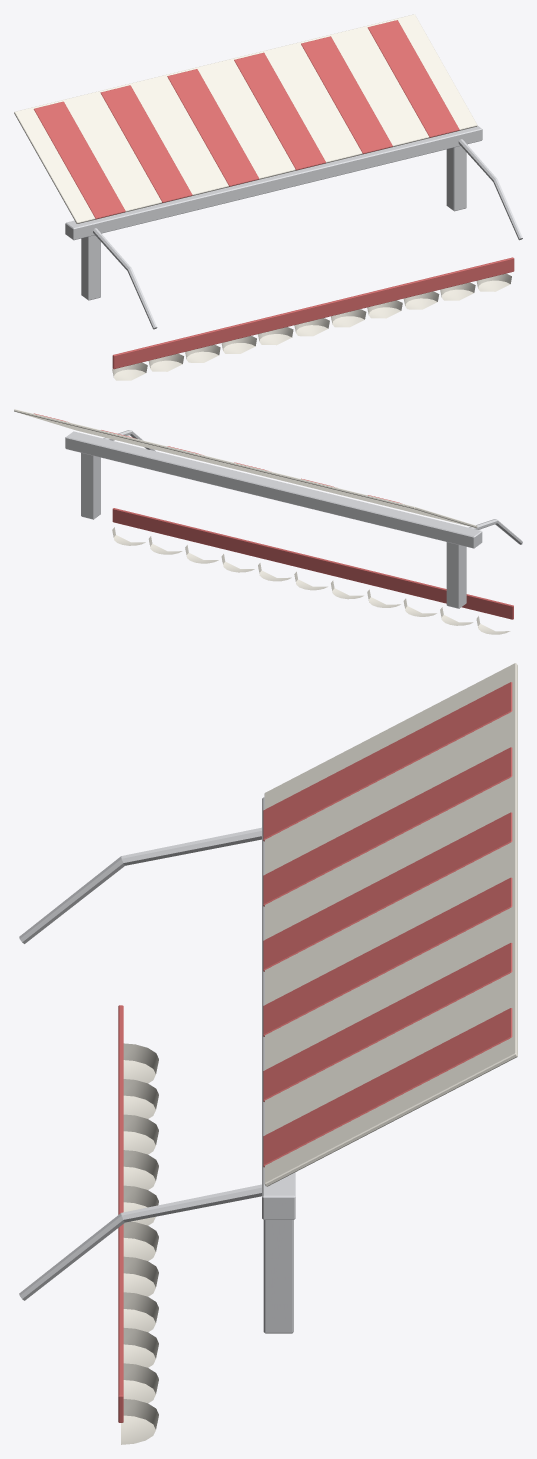
3 views of the same model, one above another, from view 1: azimuth 30°, elevation 25°; view 2: azimuth 150°, elevation 25°; view 3: azimuth 270°, elevation 25° (orthographic). The views are drawn at different scales.
Parts seen in each view (by area): view 1: awning-strip; view 2: awning-strip; view 3: awning-strip.
Part boxes in pixels (bbox=[...]): awning-strip: bbox=[14, 14, 522, 380]; awning-strip: bbox=[14, 409, 522, 634]; awning-strip: bbox=[19, 663, 517, 1444].
Bounding box in the file's own units: 2.8 × 1.31 × 1.48.
